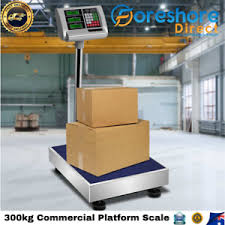Industrial Scale: (48, 5, 172, 210)
